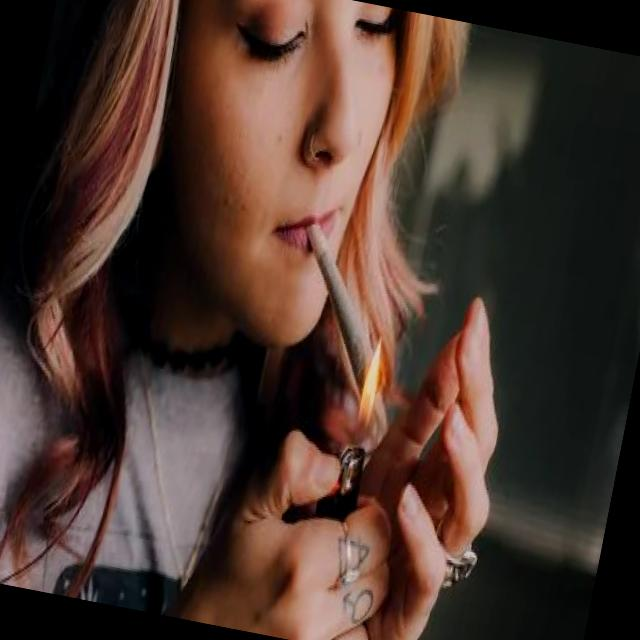smoke: (274, 217, 416, 424)
